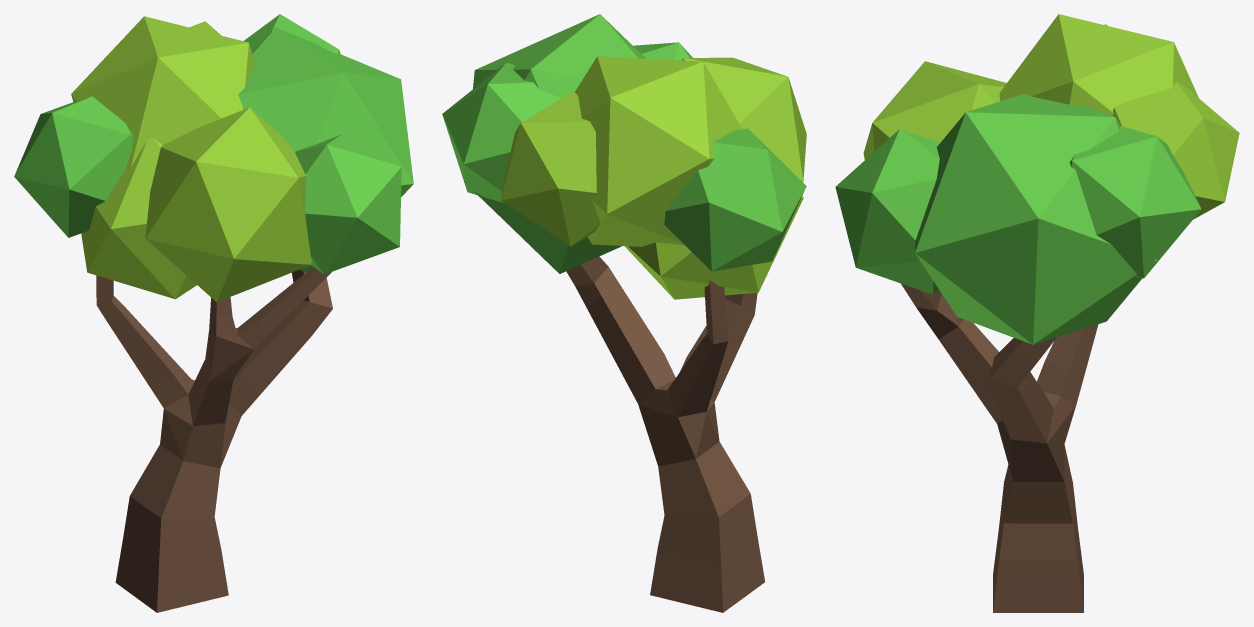
Rendered from Tree_Alive_5.fbx.
3 views of the same model, side by side, from view 1: azimuth 30°, elevation 25°; view 2: azimuth 150°, elevation 25°; view 3: azimuth 270°, elevation 25° (orthographic). The views are drawn at different scales.
Visible parts, largest first — view 1: Tree 5; view 2: Tree 5; view 3: Tree 5.
Boxes of the visible parts, x1=… form: Tree 5: x1=14, y1=14, x2=413, y2=612; Tree 5: x1=442, y1=14, x2=806, y2=612; Tree 5: x1=835, y1=14, x2=1239, y2=612.
Bounding box in the file's own units: 215 × 314 × 199.
